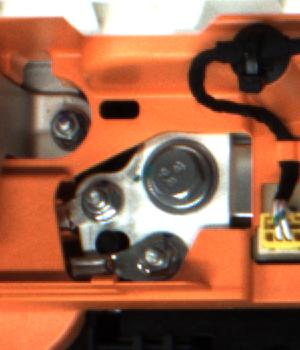nut_b: (139, 132, 225, 219)
